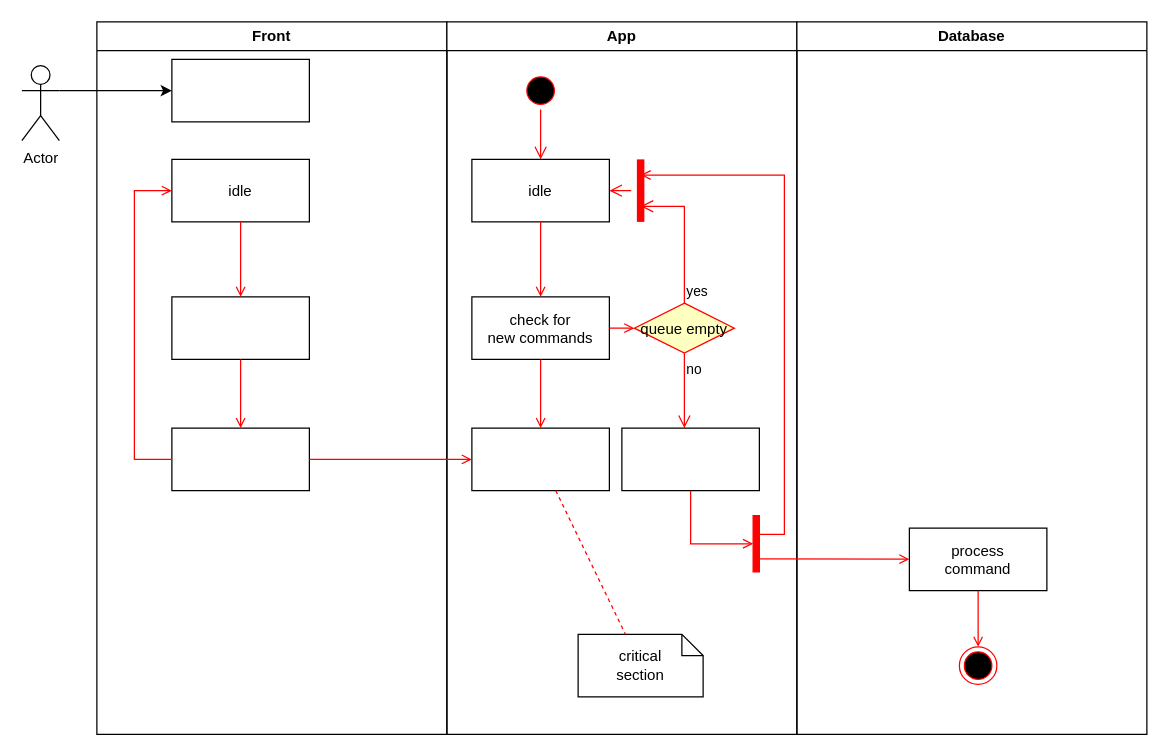
Some shapes in this 1169 by 756 pixel diagram are drawn without their labels. The shapes that lost their labels are listed below. From the top down, each one's centre as x and y in pixels, then its label:
the point at 240,90: ติดต่อดูห้อง
the point at 240,327: user action
the point at 240,459: post command
the point at 540,459: command queue
the point at 690,459: dispatch command worker thread
